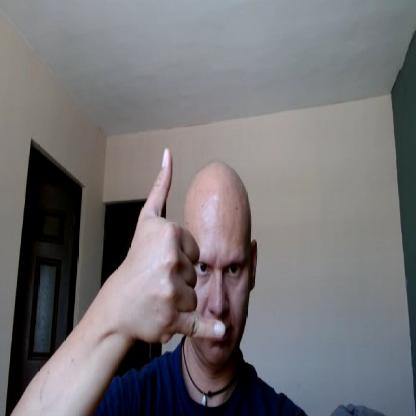Y: (124, 147, 224, 346)
